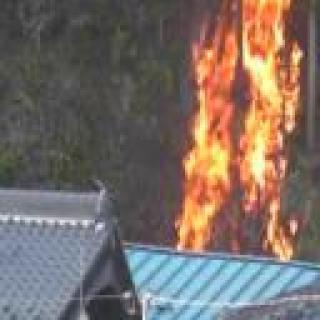fire: (176, 0, 320, 268)
